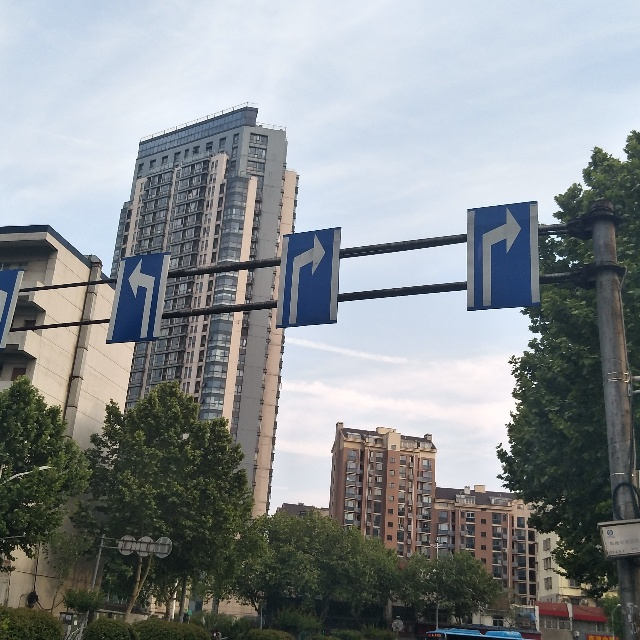left: (105, 252, 168, 348)
right: (463, 201, 539, 318), (275, 225, 339, 336)
